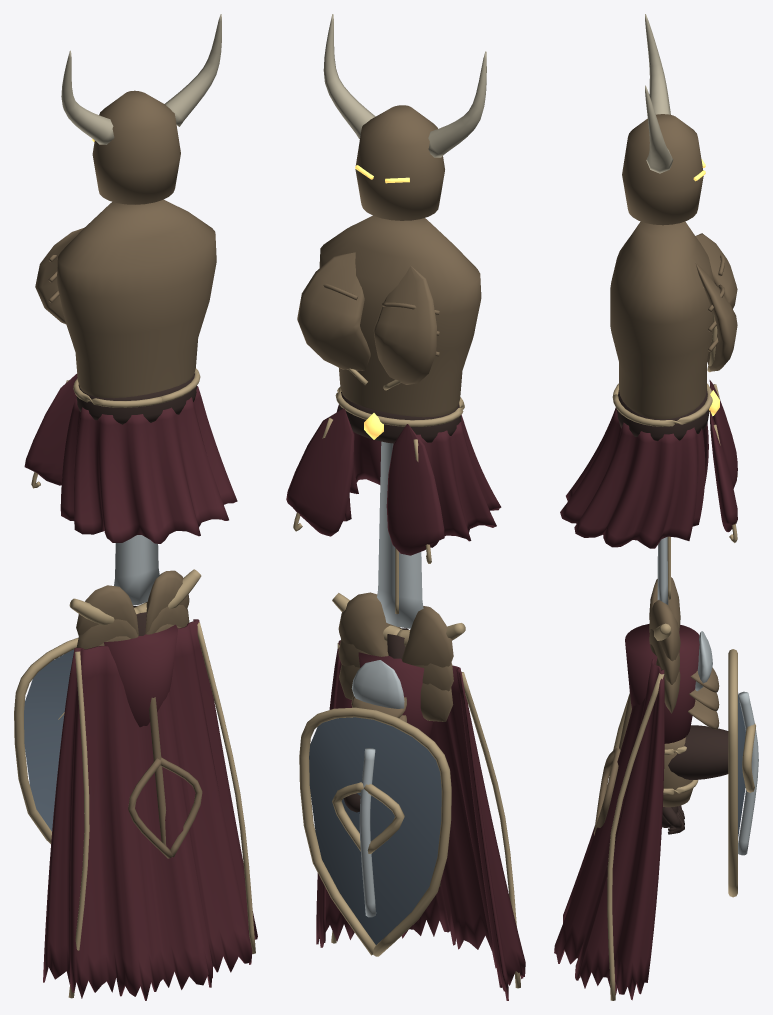
The model's file is bulwark.glb.
3 views of the same model, side by side, from view 1: azimuth 30°, elevation 25°; view 2: azimuth 150°, elevation 25°; view 3: azimuth 270°, elevation 25° (orthographic). The views are drawn at different scales.
Parts seen in each view (by area): view 1: Cape__wine, Body__bronze, Body__wine, ArmL__iron, LegL__wine, Cape__gold, Body__bone, Cape__bronze, ArmL__bronze, Weapon__silver, ArmL__gold, ArmR__bronze (+3 smaller); view 2: Body__bronze, ArmL__iron, Body__wine, Cape__wine, ArmL__gold, ArmL__bronze, Weapon__silver, Body__bone, ArmR__bronze, KneeL__silver, ArmL__silver, LegL__wine (+5 smaller); view 3: Body__bronze, Cape__wine, Body__wine, LegL__wine, ArmL__gold, KneeL__leather, Body__bone, Cape__gold, ArmR__bronze, ArmL__bronze, ArmL__silver, Body__leather (+6 smaller).
Part boxes in pixels (box(x1,y1,x2,y2)): Cape__wine: box(43, 619, 257, 1000); Body__bronze: box(35, 90, 216, 398); Body__wine: box(24, 373, 237, 543); ArmL__iron: box(24, 649, 73, 831); LegL__wine: box(104, 624, 177, 727); Cape__gold: box(68, 622, 255, 998); Body__bone: box(61, 14, 221, 144); Cape__bronze: box(128, 697, 202, 858); ArmL__bronze: box(76, 585, 138, 649); Weapon__silver: box(114, 535, 159, 605); ArmL__gold: box(14, 637, 78, 843); ArmR__bronze: box(145, 570, 189, 634); Body__bronze: box(297, 105, 481, 417); ArmL__iron: box(309, 717, 441, 944); Body__wine: box(286, 404, 501, 555); Cape__wine: box(316, 640, 525, 1000); ArmL__gold: box(299, 707, 451, 956); ArmL__bronze: box(401, 606, 453, 721); Weapon__silver: box(377, 441, 423, 628); Body__bone: box(323, 14, 486, 157); ArmR__bronze: box(338, 592, 400, 699); KneeL__silver: box(351, 660, 404, 708); ArmL__silver: box(359, 748, 376, 917); LegL__wine: box(358, 652, 433, 737); Body__bronze: box(610, 114, 737, 419); Cape__wine: box(554, 659, 664, 1000); Body__wine: box(560, 380, 737, 548); LegL__wine: box(625, 624, 699, 743); ArmL__gold: box(663, 649, 755, 897); KneeL__leather: box(668, 725, 728, 779); Body__bone: box(645, 14, 673, 173); Cape__gold: box(607, 673, 664, 1000); ArmR__bronze: box(649, 600, 680, 713); ArmL__bronze: box(649, 577, 693, 807); ArmL__silver: box(738, 691, 758, 855); Body__leather: box(616, 389, 709, 440).
Bounding box in the file's own units: 0.7746 × 3.42 × 0.7002.
